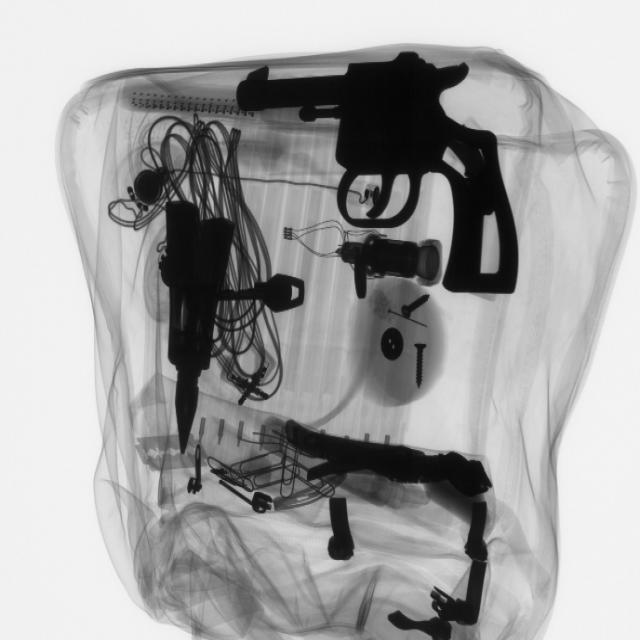GUN: (240, 53, 530, 303)
SCREW: (405, 335, 446, 396), (396, 284, 443, 331)
